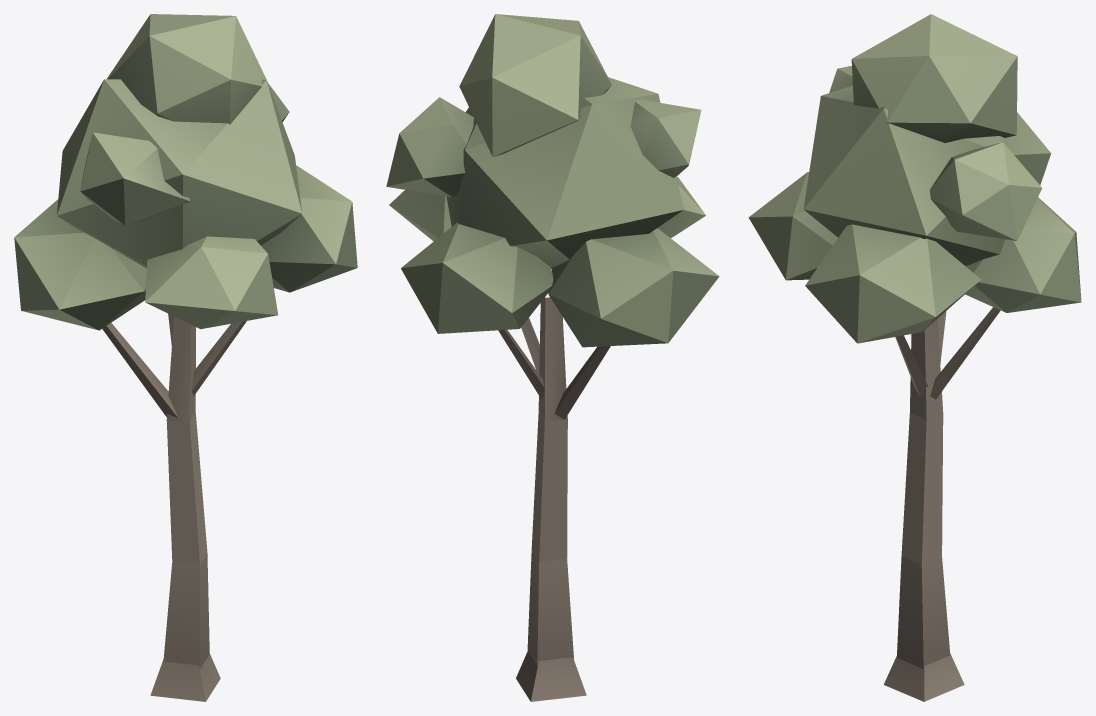
Rendered from tree.lod1.glb.
3 views of the same model, side by side, from view 1: azimuth 30°, elevation 25°; view 2: azimuth 150°, elevation 25°; view 3: azimuth 270°, elevation 25° (orthographic).
Bounding box in the file's own units: 2.91 × 6.06 × 2.79.
